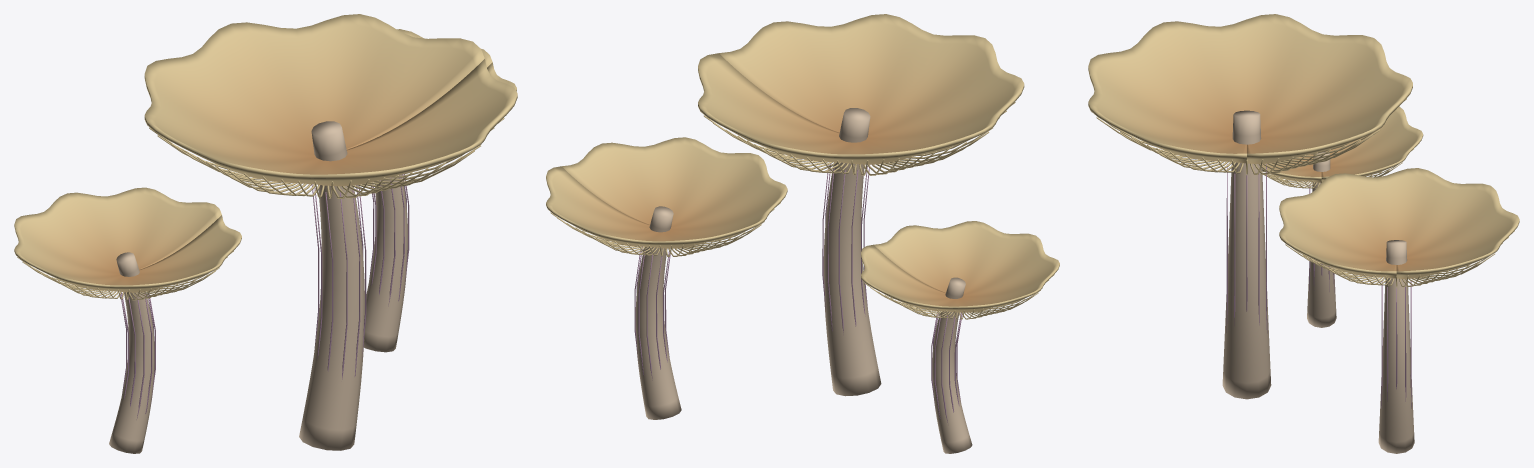
File: enchanted-milkcap.glb
The picture shows the model from 3 angles, left to right: view 1: azimuth 30°, elevation 25°; view 2: azimuth 150°, elevation 25°; view 3: azimuth 270°, elevation 25°; orthographic projection. The views are drawn at different scales.
Visible parts, largest first — view 1: enchanted-milkcap-sculpted-details; view 2: enchanted-milkcap-sculpted-details; view 3: enchanted-milkcap-sculpted-details.
Part boxes in pixels (x1,y1,x2,y2): enchanted-milkcap-sculpted-details: (14, 14, 517, 453); enchanted-milkcap-sculpted-details: (546, 14, 1059, 453); enchanted-milkcap-sculpted-details: (1088, 14, 1519, 453).
Size of the model in its own units: 1.53 by 1 by 1.28.
